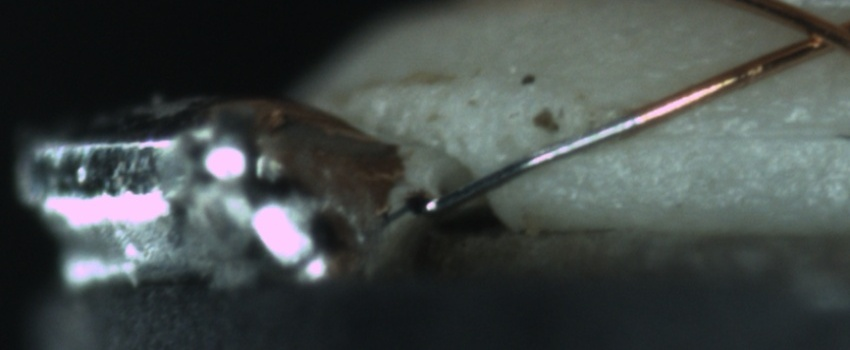CL: (776, 4, 849, 60)
DL: (632, 102, 850, 166)
TS: (421, 114, 638, 215)
